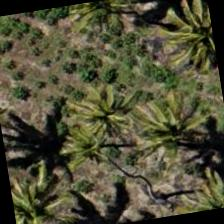Kelapa_Sawit: (32, 102, 136, 204), (48, 57, 150, 160), (124, 78, 223, 182), (154, 0, 220, 86), (7, 155, 84, 223), (168, 155, 223, 216)
